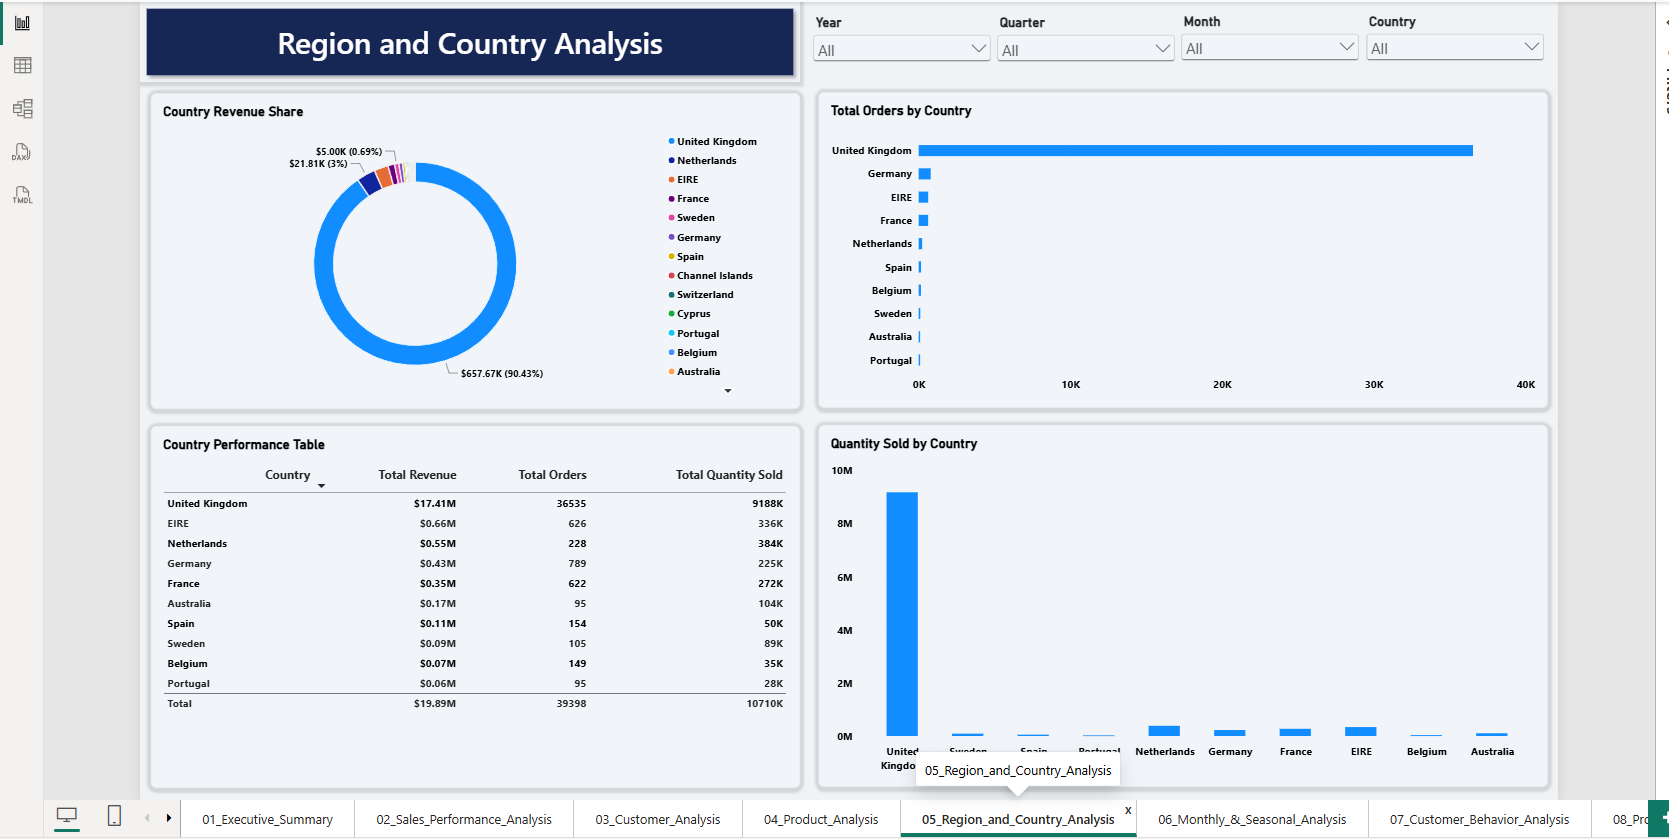

The page's visual inventory and layout, read from the dashboard file:
{"tool":"powerbi","page":{"name":"05_Region_and_Country_Analysis","canvas":[1920,1080],"ordinal":4},"visuals":[{"type":"shape","box":[0,0,893.5,108.1],"z":0},{"type":"slicer","fields":{"Values":["Date.Quarter"]},"box":[1156.3,18,249.7,74.3],"z":1000},{"type":"slicer","fields":{"Values":["Date.Year"]},"box":[907.2,17.4,249.7,74.3],"z":2000},{"type":"slicer","fields":{"Values":["Sales.Country"]},"box":[1656.3,15.8,249.7,74.3],"z":3000},{"type":"slicer","fields":{"Values":["Date.Month"]},"box":[1405.6,16.5,249.7,74.3],"z":4000},{"type":"donutChart","title":"Country Revenue Share","fields":{"Category":["Sales.Country"],"Y":["KPI Measures.Total Revenue"]},"box":[14.1,123.8,879.5,428],"z":5000},{"type":"clusteredBarChart","title":"Total Orders by Country","fields":{"Category":["Sales.Country"],"Y":["KPI Measures.Total Orders"]},"box":[918.7,122.3,987.6,428],"z":6000},{"type":"tableEx","title":"Country Performance Table","fields":{"Values":["Sales.Country","KPI Measures.Total Revenue","KPI Measures.Total Orders","KPI Measures.Total Quantity Sold"]},"box":[14.1,573.8,879.5,490.7],"z":7000},{"type":"clusteredColumnChart","title":"Quantity Sold by Country","fields":{"Category":["Sales.Country"],"Y":["KPI Measures.Total Quantity Sold"]},"box":[918.7,572.2,987.6,490.7],"z":8000}]}

Visuals, with their boxes on the page's 1920x1080 design canvas (x1, y1, x2, y2). These are canvas units, not pixel positions in the 1669x839 screenshot, which may show the page scaled, cropped or inside an application window:
shape: 0, 0, 894, 108
slicer - Date.Quarter: 1156, 18, 1406, 92
slicer - Date.Year: 907, 17, 1157, 92
slicer - Sales.Country: 1656, 16, 1906, 90
slicer - Date.Month: 1406, 16, 1655, 91
"Country Revenue Share" donutChart: 14, 124, 894, 552
"Total Orders by Country" clusteredBarChart: 919, 122, 1906, 550
"Country Performance Table" tableEx: 14, 574, 894, 1064
"Quantity Sold by Country" clusteredColumnChart: 919, 572, 1906, 1063
